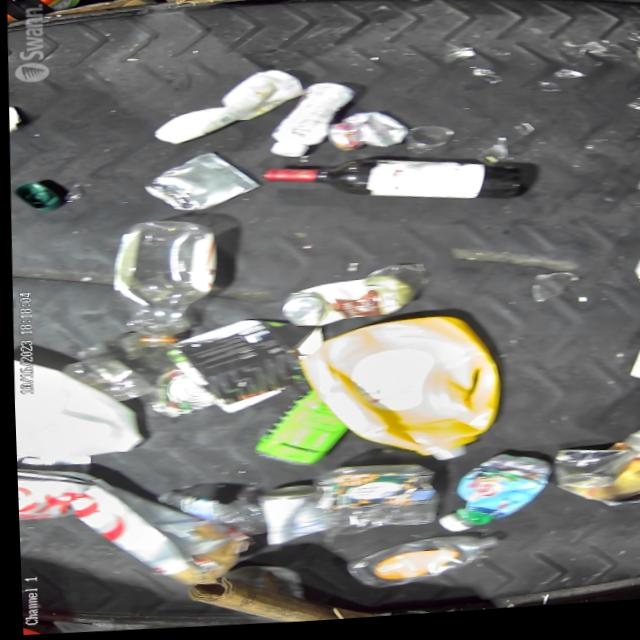can: (137, 151, 258, 217), (277, 277, 411, 334), (251, 485, 322, 552), (544, 451, 631, 500), (321, 113, 407, 158)
milk_jug: (10, 352, 140, 461)
non_white_jug: (292, 315, 501, 474), (430, 455, 547, 541)
plastic_bottle: (110, 217, 221, 353), (337, 537, 498, 595), (145, 487, 262, 544)
